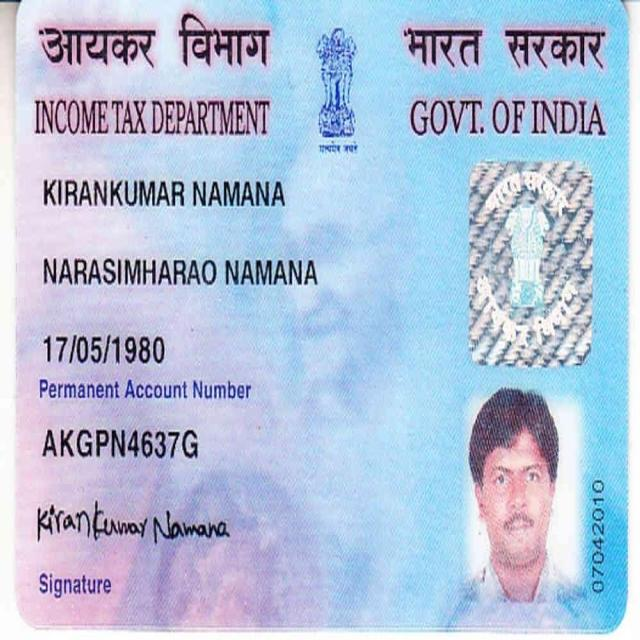pan_card: (18, 1, 622, 622)
